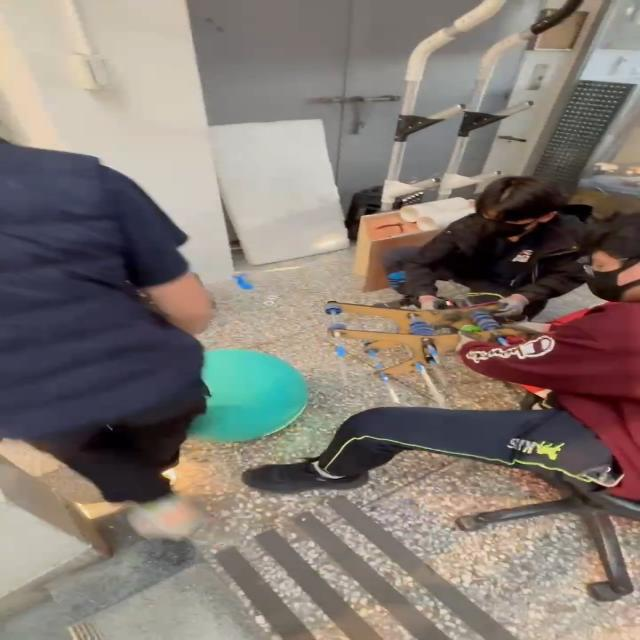ALGAE: (185, 347, 310, 443)
